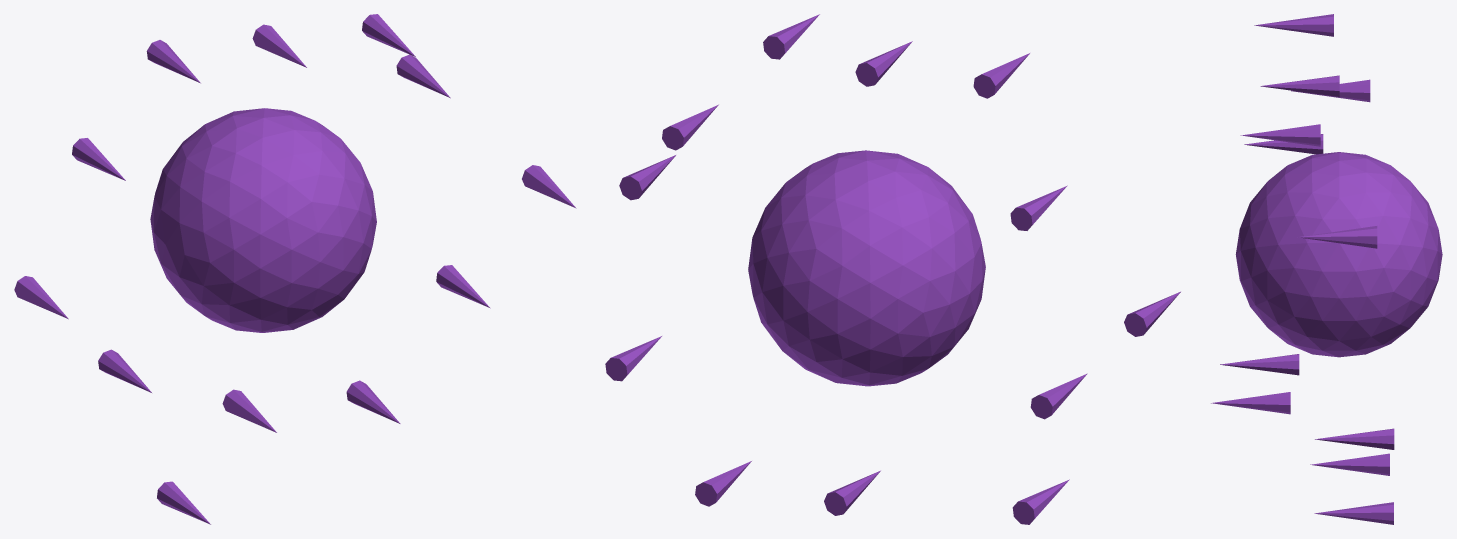
The model's file is love_016.glb.
3 renders of one model, left to right at view 1: azimuth 30°, elevation 25°; view 2: azimuth 150°, elevation 25°; view 3: azimuth 270°, elevation 25°, orthographic. The views are drawn at different scales.
Parts seen in each view (by area): view 1: world; view 2: world; view 3: world.
Part boxes in pixels (x1,y1,x2,y2): world: (14, 14, 576, 524); world: (605, 14, 1180, 524); world: (1211, 14, 1442, 524).
Size of the model in its own units: 2.37 by 1.94 by 1.01.
